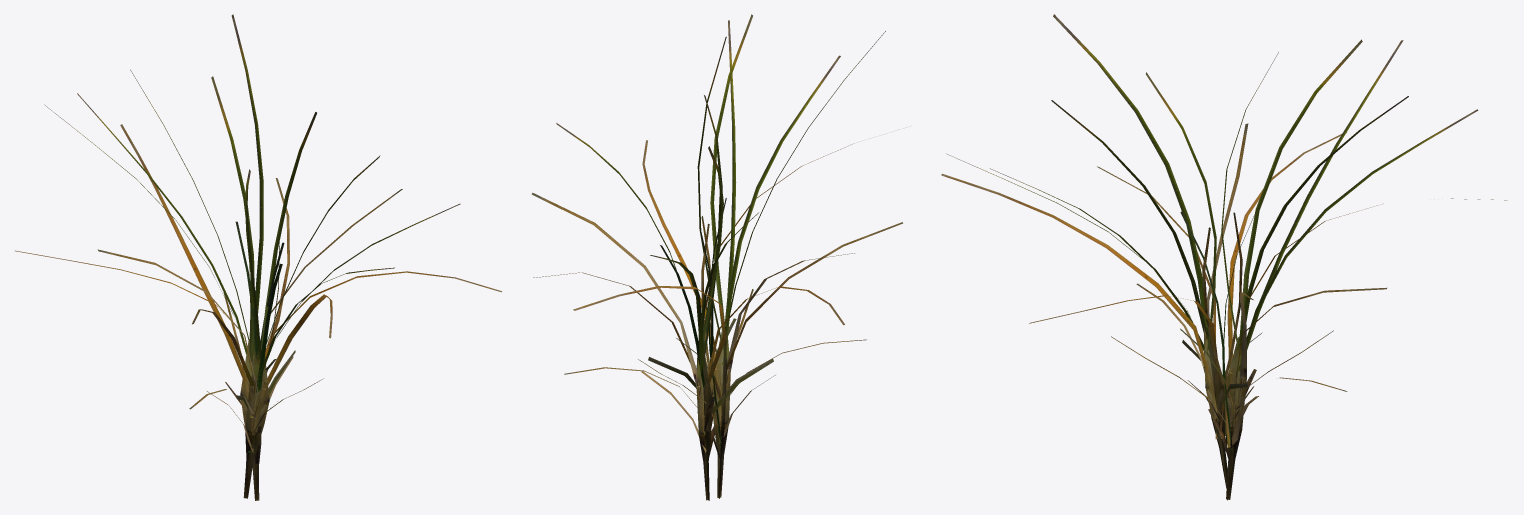
File: Rumput 3.fbx
3 renders of one model, left to right at view 1: azimuth 30°, elevation 25°; view 2: azimuth 150°, elevation 25°; view 3: azimuth 270°, elevation 25°, orthographic. The views are drawn at different scales.
Visible parts, largest first — view 1: rumput 3; view 2: rumput 3; view 3: rumput 3.
Part boxes in pixels (x1,y1,x2,y2): rumput 3: (15, 14, 501, 500); rumput 3: (531, 14, 902, 500); rumput 3: (941, 14, 1507, 500).
Bounding box in the file's own units: 32.39 × 37.13 × 43.52.
